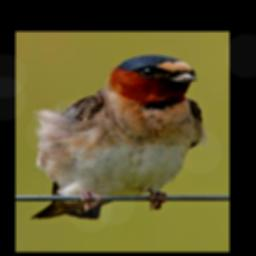Swallow: (29, 53, 208, 221)
